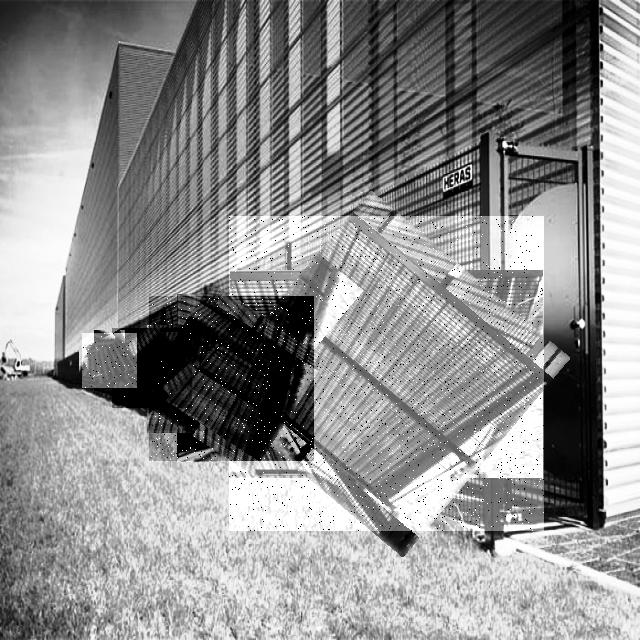fences: (229, 216, 544, 531), (149, 296, 314, 461), (112, 328, 192, 408), (82, 333, 137, 388)
